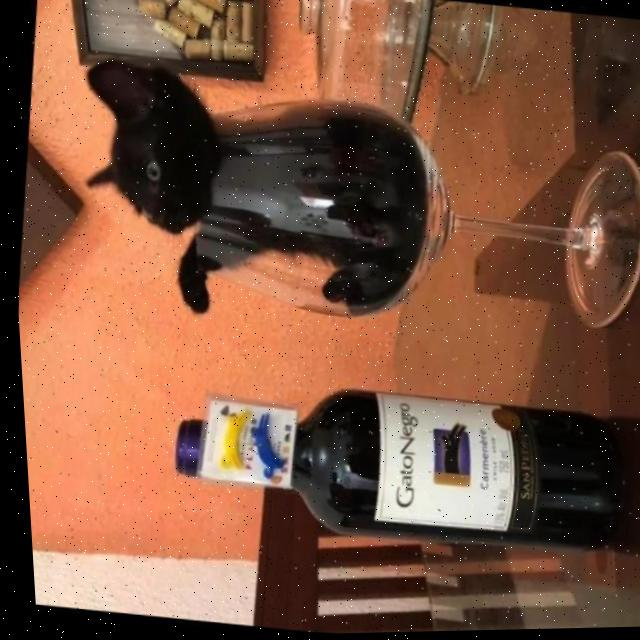Cats: (55, 52, 445, 341)
